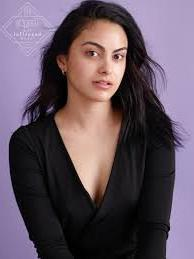Sober: (72, 28, 127, 93)
